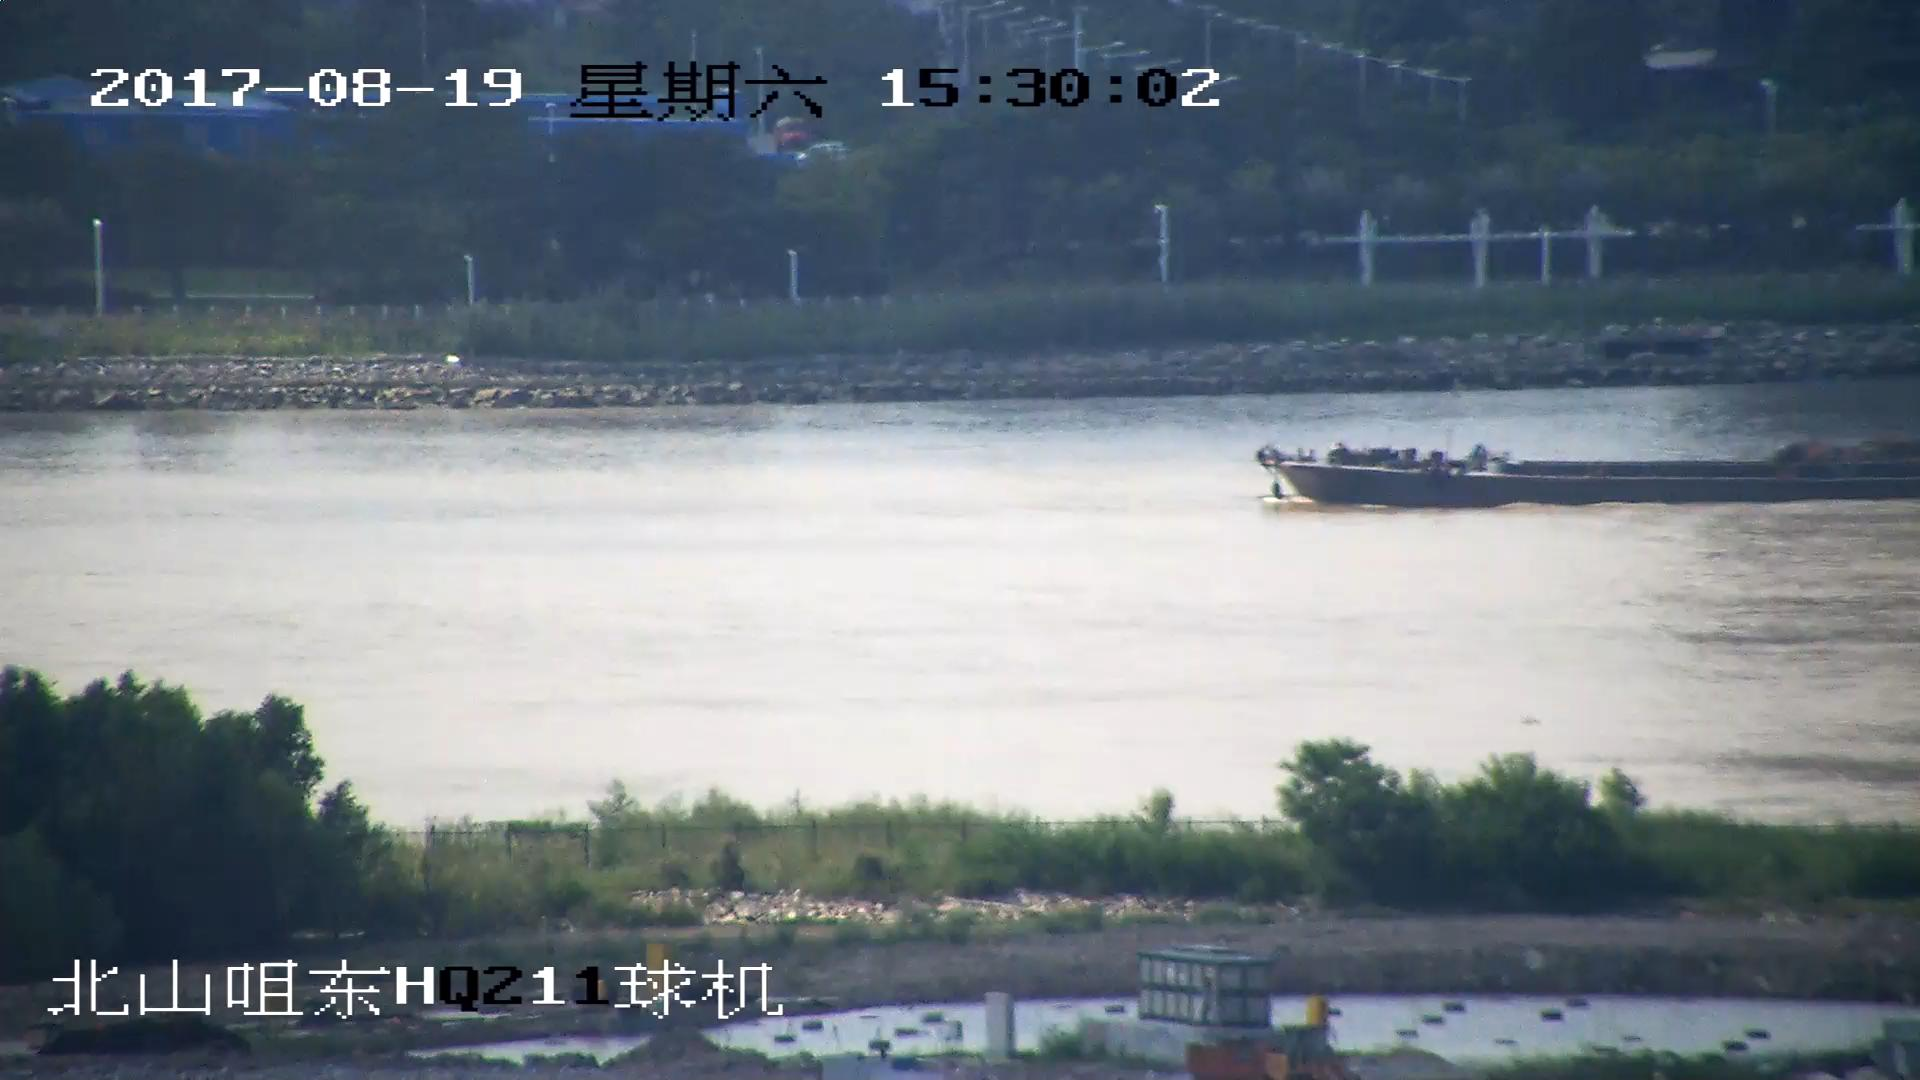ore carrier: (1244, 430, 1920, 512)
